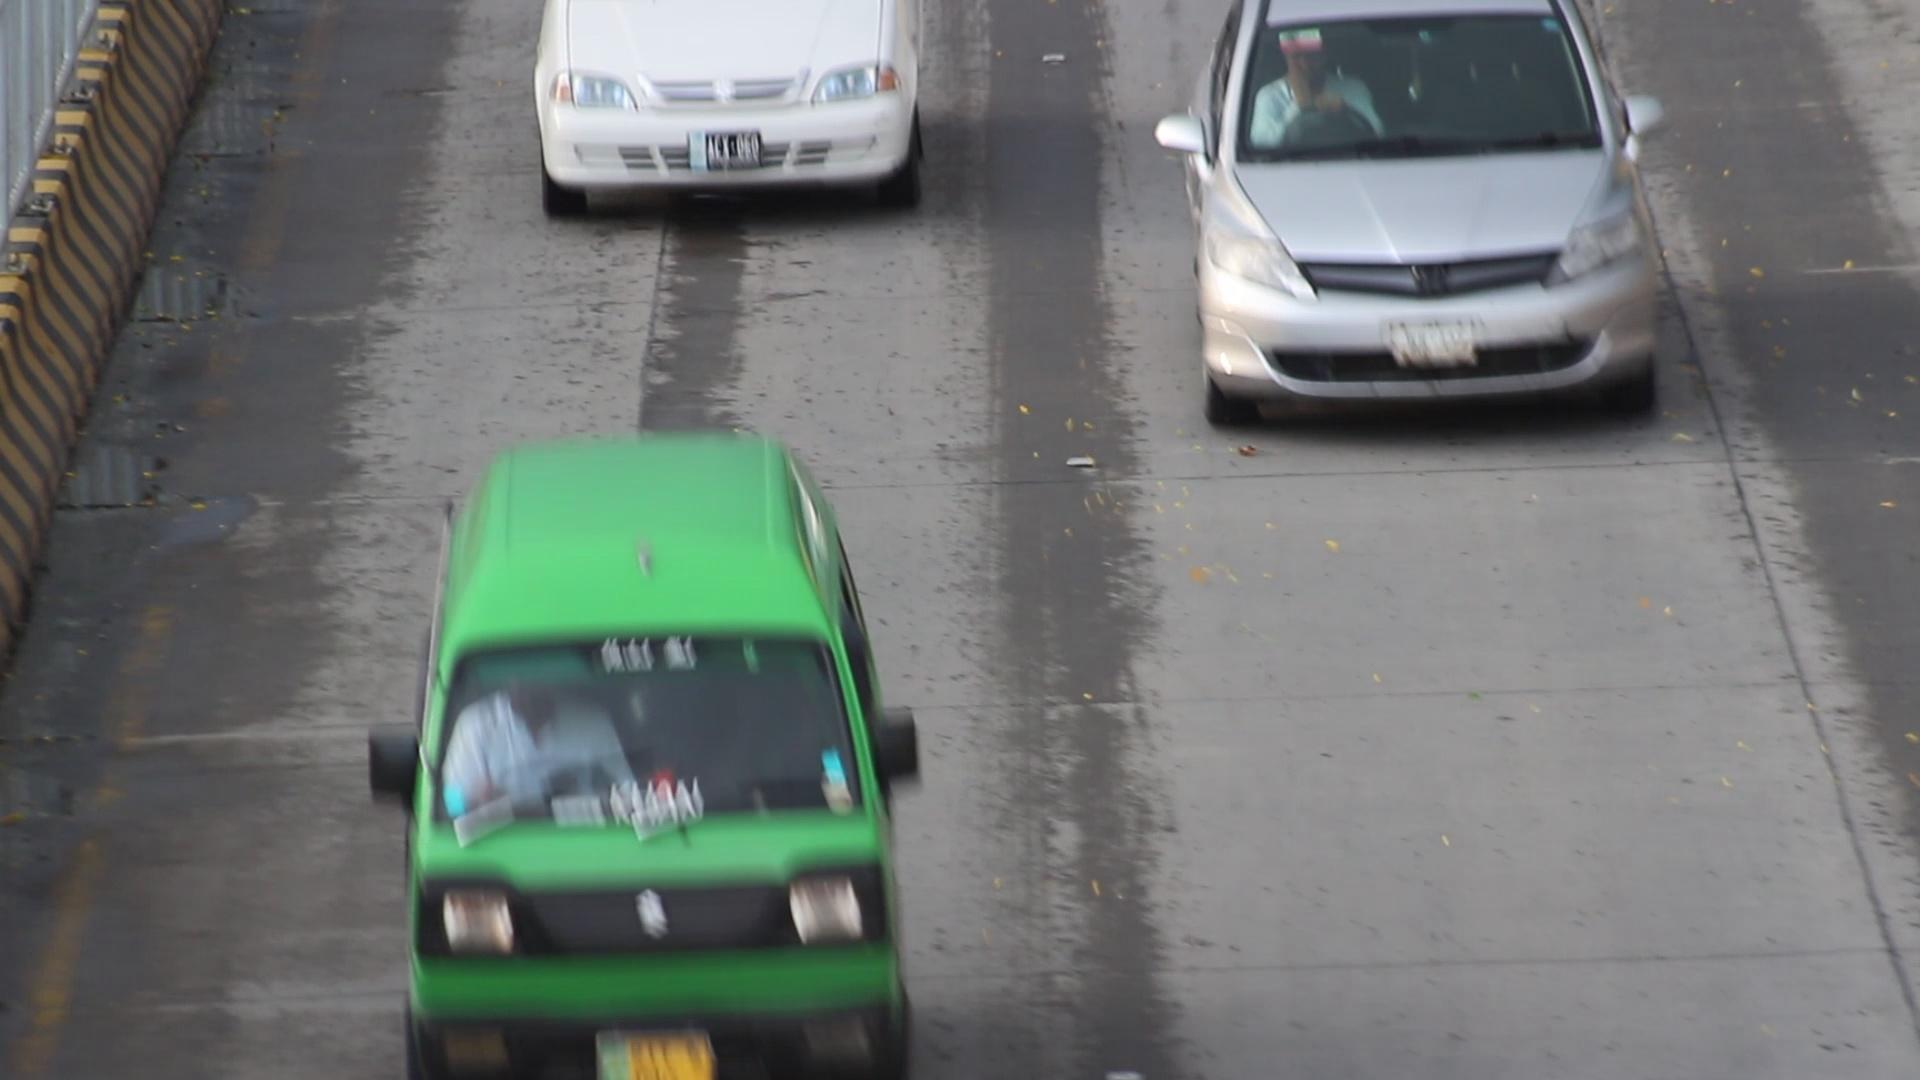windshield: (427, 604, 870, 857)
